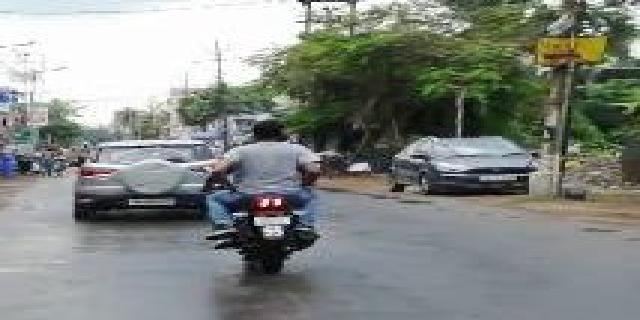Car: (75, 139, 224, 232), (396, 133, 540, 205)
Motorbike: (227, 114, 333, 283)
